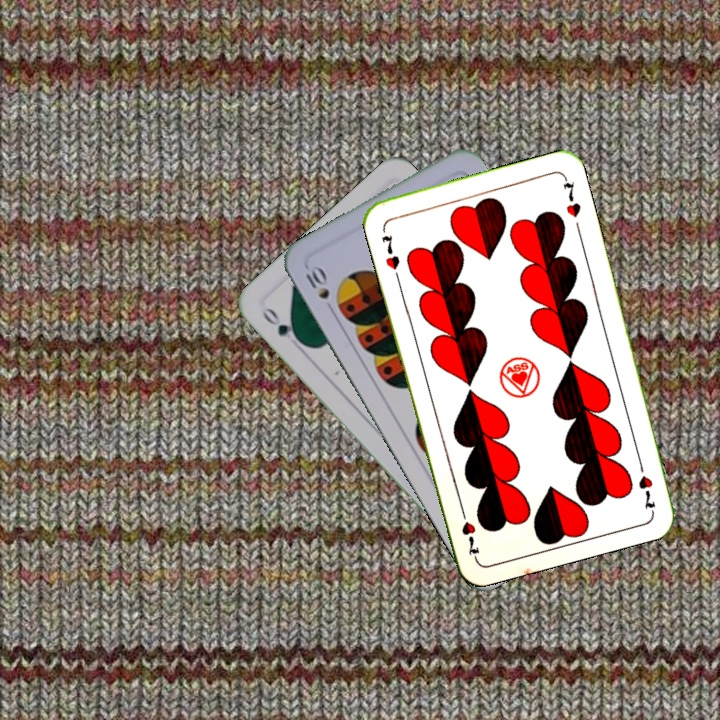GO: (258, 303, 306, 350)
H7: (634, 455, 658, 513), (377, 230, 402, 272)
S10: (301, 261, 332, 302)
